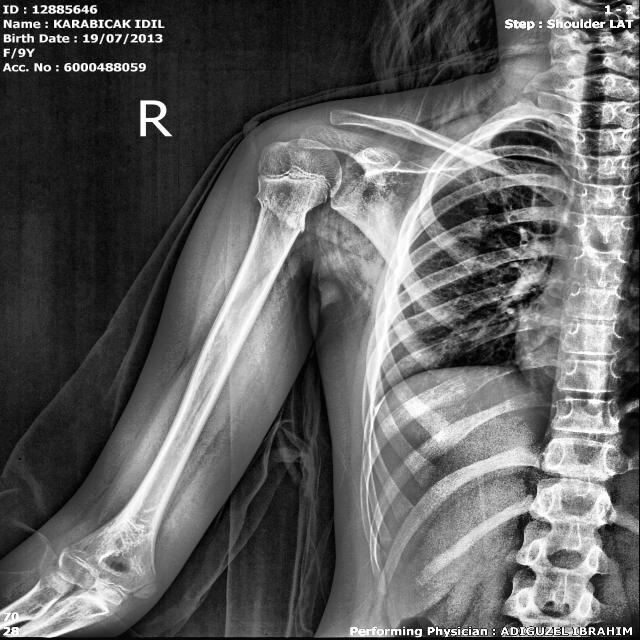Fracture: (252, 183, 313, 240)
